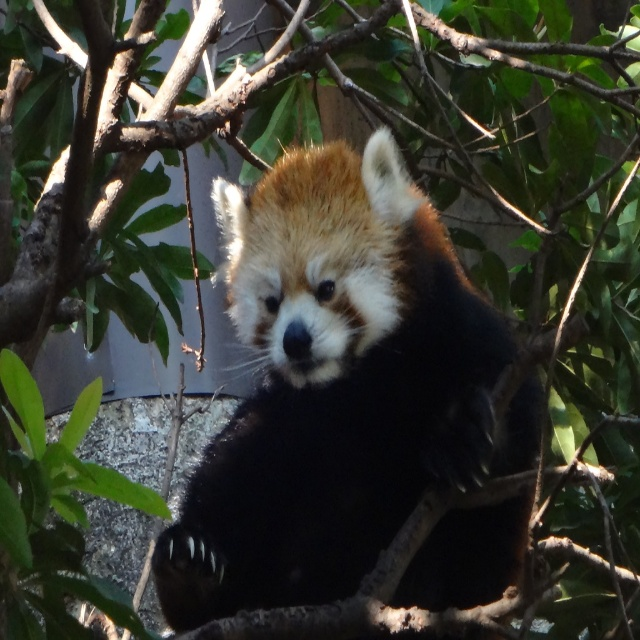Panda: (151, 126, 544, 632)
